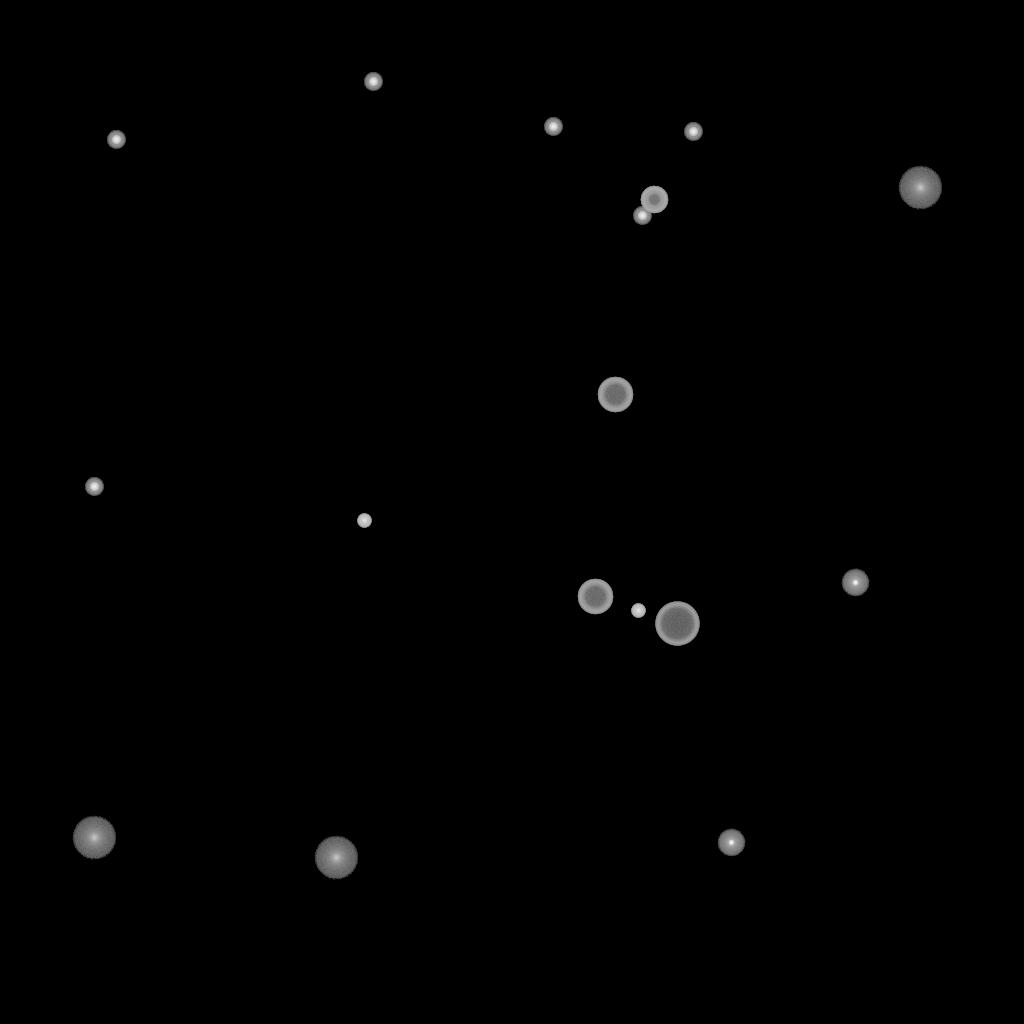depth:-10: (841, 569, 869, 597), (717, 829, 745, 857)
depth:-20: (364, 73, 382, 91), (107, 131, 125, 149), (85, 478, 103, 496), (684, 123, 702, 141), (544, 118, 562, 136), (633, 207, 651, 225)
depth:-30: (631, 604, 645, 618), (357, 514, 371, 528)
depth:-50: (640, 186, 668, 214)
depth:-60: (597, 377, 633, 413), (577, 579, 613, 615)
depth:-70: (655, 602, 699, 646)
depth:10: (898, 166, 942, 210), (314, 836, 358, 880), (72, 816, 116, 860)
